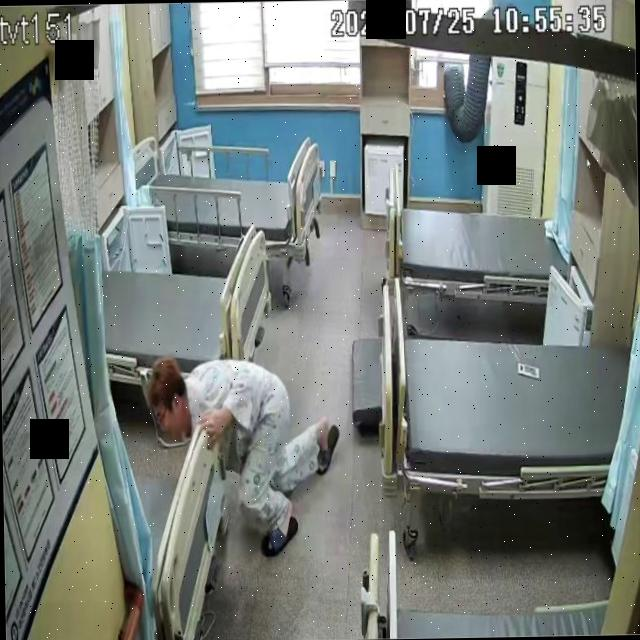bed: (397, 322, 634, 499), (100, 224, 276, 404), (133, 134, 320, 258), (386, 179, 569, 303)
fall: (147, 352, 340, 558)
patient: (146, 352, 342, 560)
